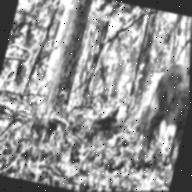boar: (137, 53, 190, 158)
